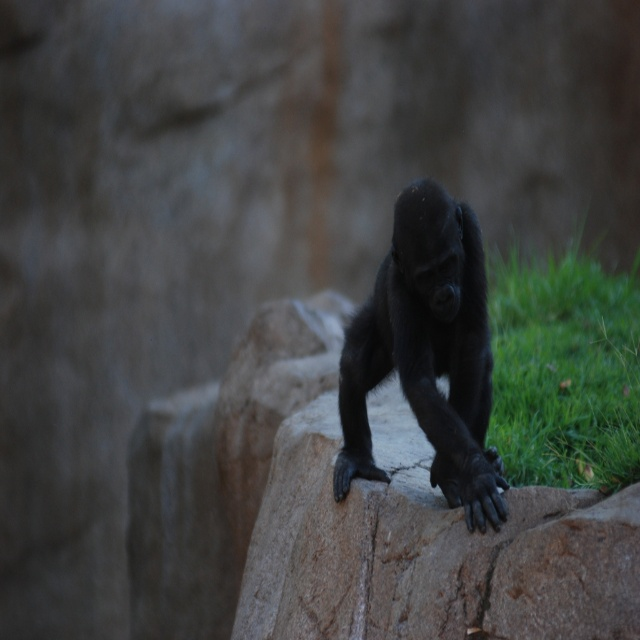Monkey: (330, 177, 513, 529)
